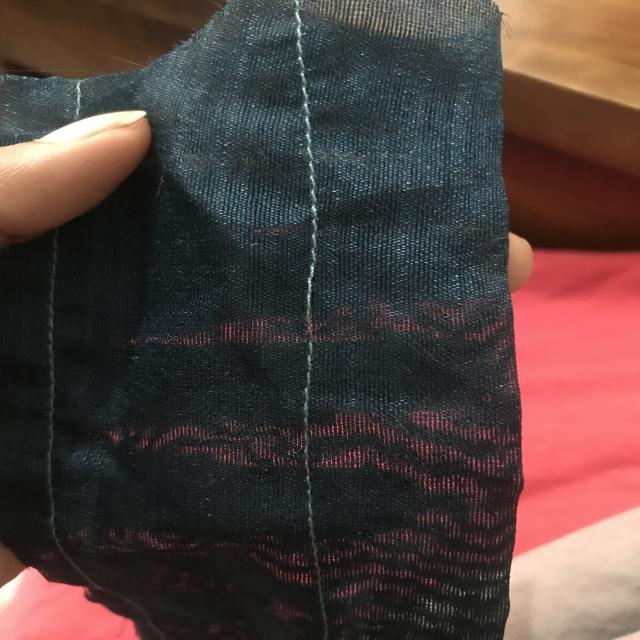good: (289, 388, 337, 512), (294, 95, 334, 210)
skip: (290, 249, 332, 349)
